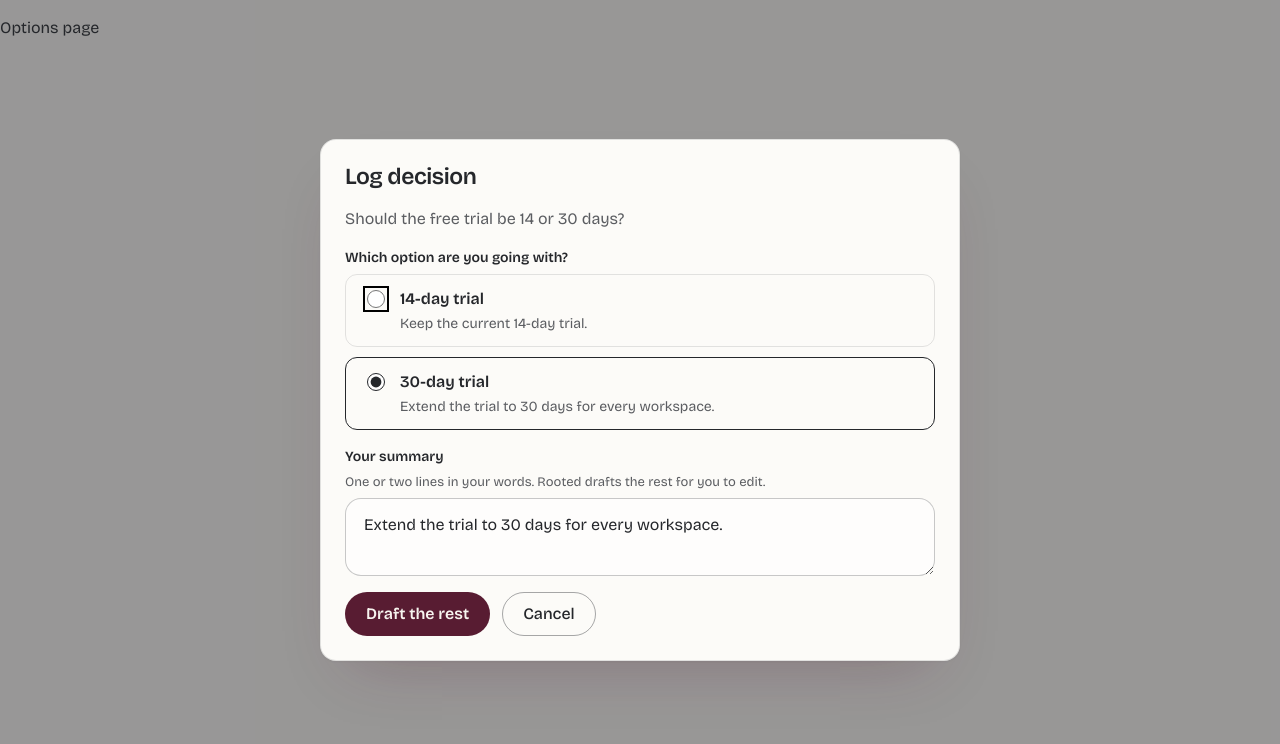
Test: draftRecord › F-15: when Claude can’t draft, it says why, can retry, and the PM can write the record themselves
Click the button "Draft the rest". click: (418, 614)
box: left=345, top=592, right=490, bottom=636
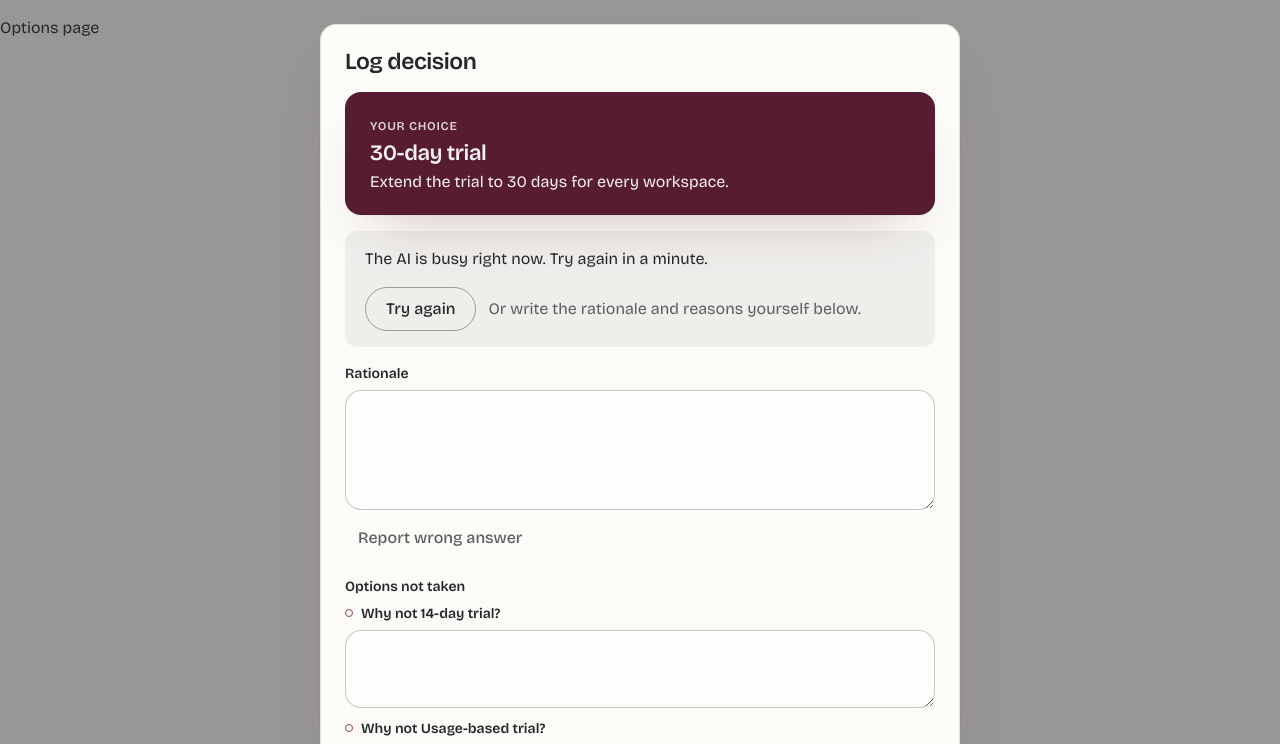
Check: the text "The AI is busy right now. Try again in a minute." is shown, box left=365, top=248, right=707, bottom=268
Check: the text box labelled "Rationale" is empty, box left=345, top=390, right=935, bottom=510
Click the button "Try again". click: (421, 308)
box: left=365, top=286, right=476, bottom=330
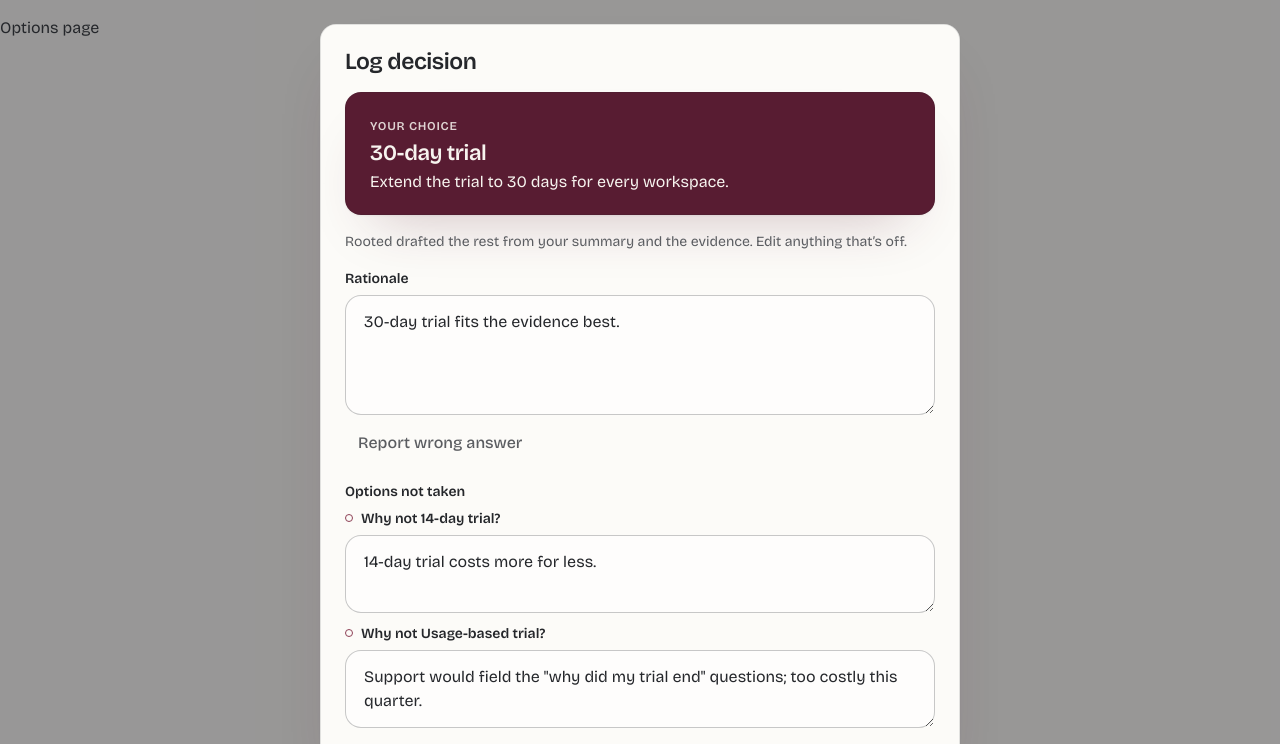
Check: the text box showing "30-day trial fits the evidence best." is shown, box left=345, top=294, right=935, bottom=414
